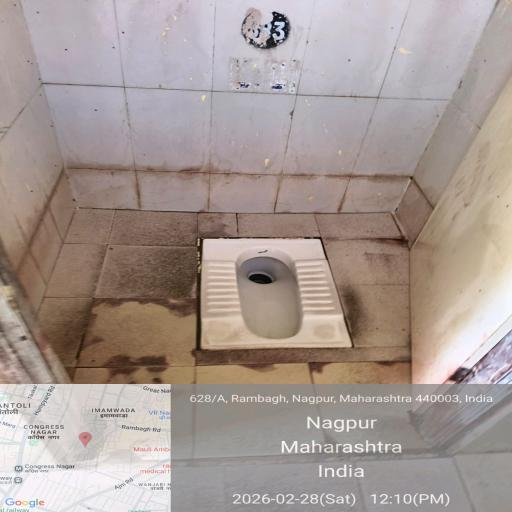clean_indian: (174, 232, 390, 384)
dirty_floor: (0, 95, 200, 430)
partial_dirty_floor: (233, 12, 512, 206)
